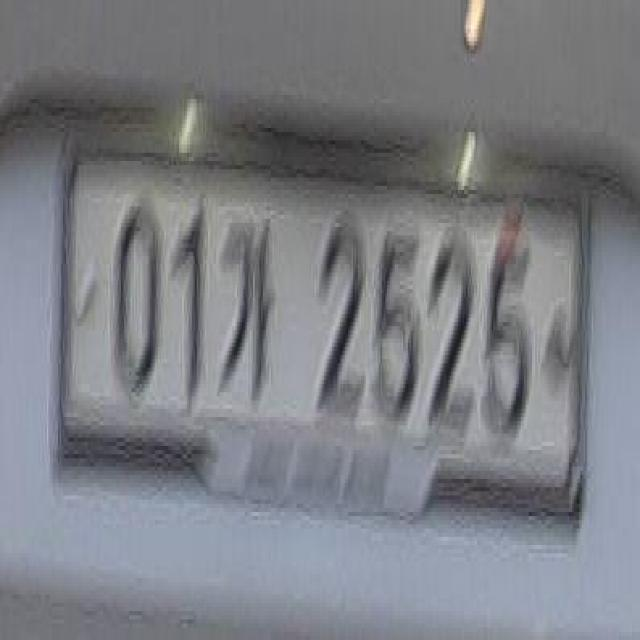illegal_plate: (56, 129, 580, 534)
